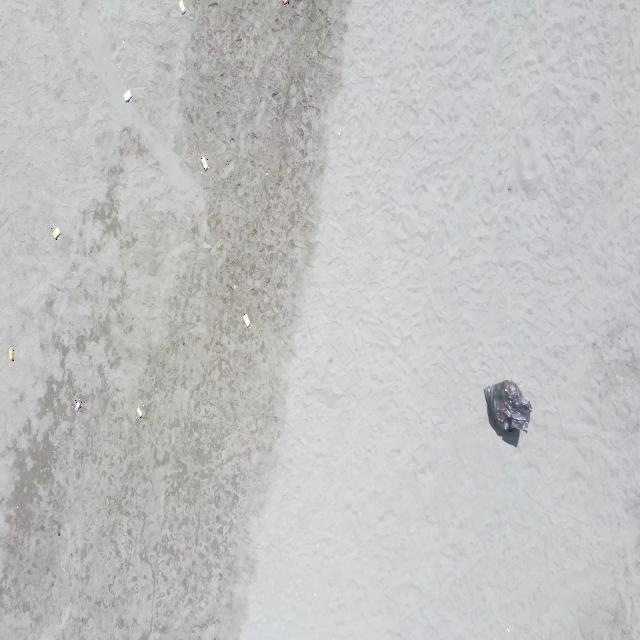Garbage: (484, 380, 531, 431), (51, 226, 60, 239), (200, 156, 207, 171), (179, 0, 186, 13), (74, 399, 81, 412), (243, 312, 249, 327), (123, 91, 131, 101), (136, 406, 143, 417), (8, 347, 13, 360), (280, 0, 287, 4)
